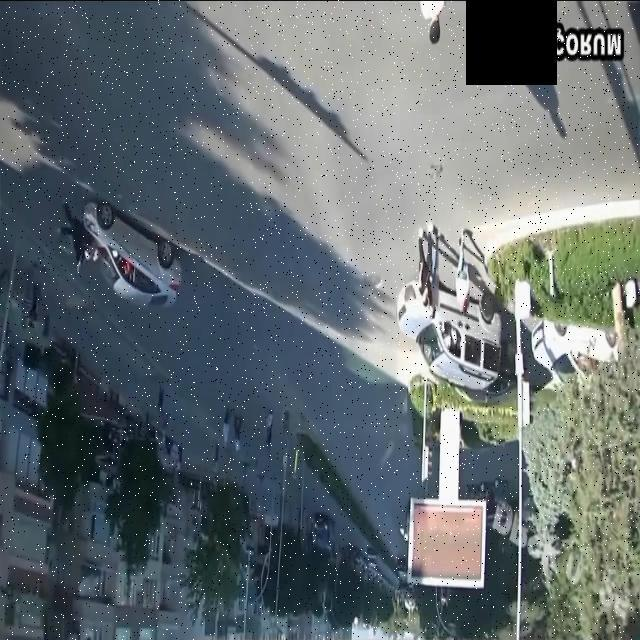severe: (55, 196, 183, 316)
